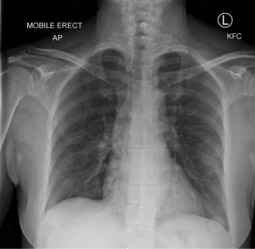Mildw: (40, 48, 129, 207), (157, 48, 230, 226)
